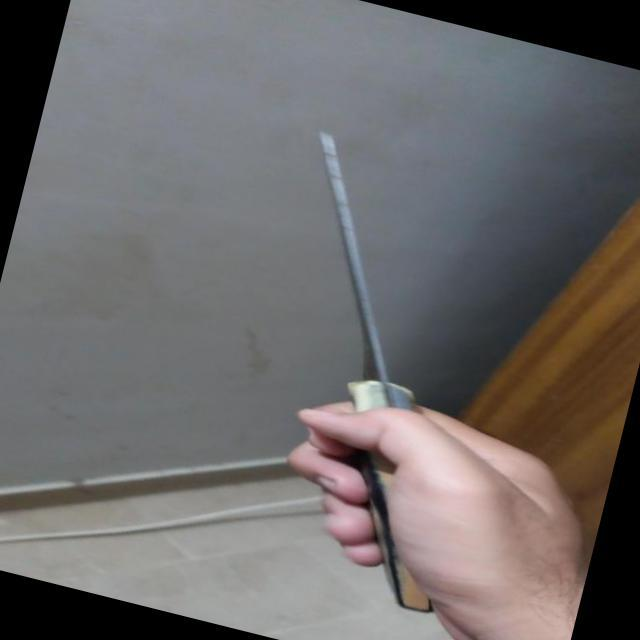Knife: (201, 89, 577, 502)
